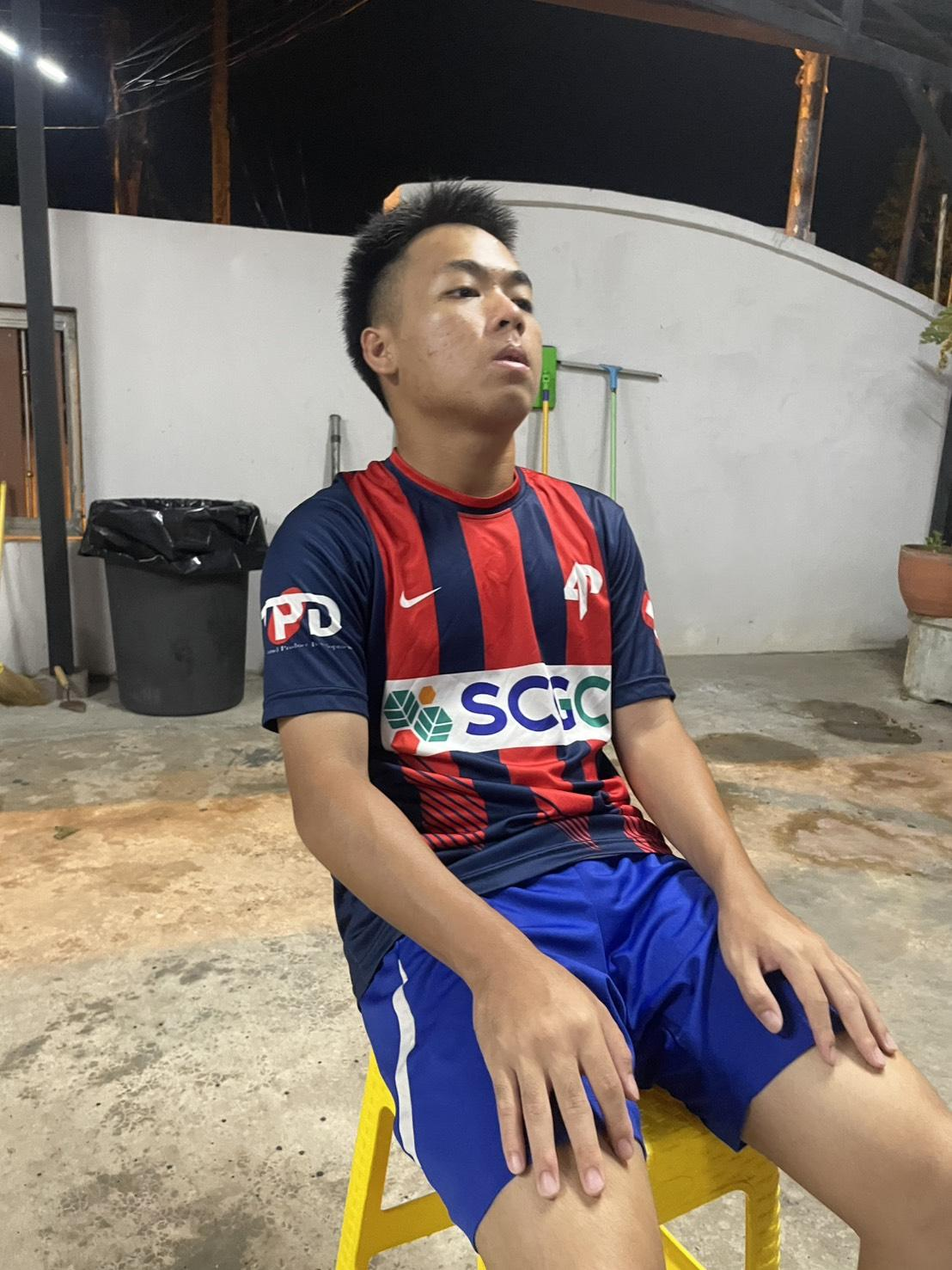BadPosture: (261, 182, 812, 955)
